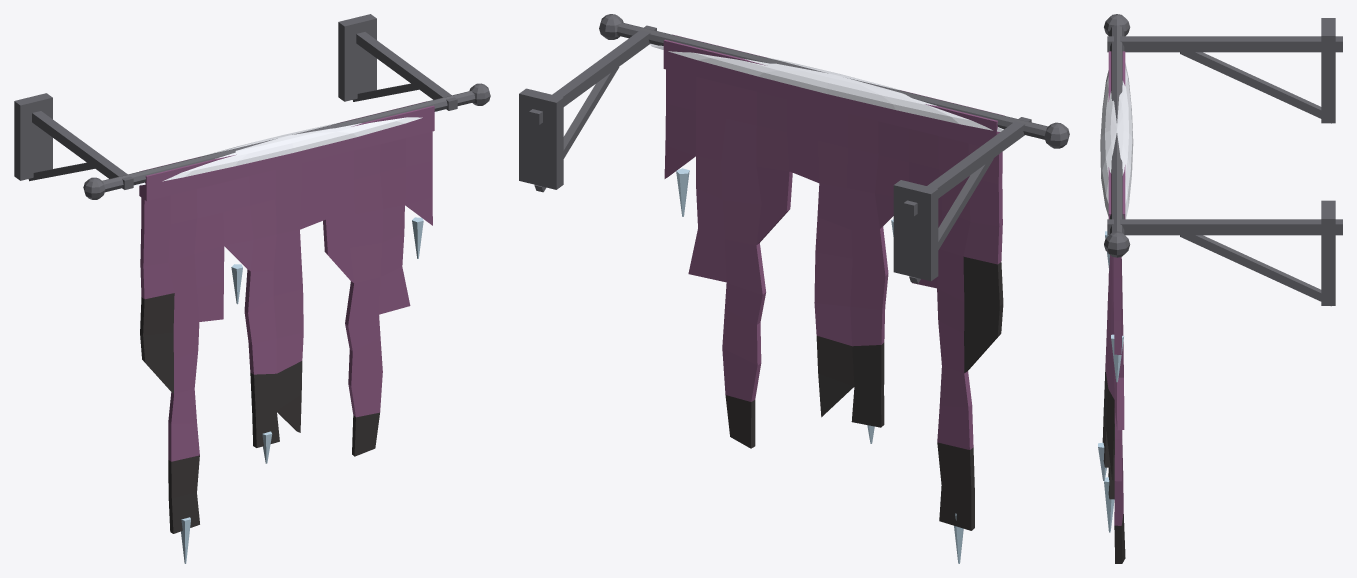
Rendered from PR_Estandarte_Queimado.fbx.
The picture shows the model from 3 angles, left to right: view 1: azimuth 30°, elevation 25°; view 2: azimuth 150°, elevation 25°; view 3: azimuth 270°, elevation 25°; orthographic projection. The views are drawn at different scales.
Visible parts, largest first — view 1: PR_Estandarte_Queimado; view 2: PR_Estandarte_Queimado; view 3: PR_Estandarte_Queimado.
Part boxes in pixels (left/top/right/bottom): PR_Estandarte_Queimado: left=14, top=14, right=490, bottom=563; PR_Estandarte_Queimado: left=519, top=14, right=1069, bottom=563; PR_Estandarte_Queimado: left=1098, top=14, right=1342, bottom=563.
Bounding box in the file's own units: 2.25 × 2.17 × 1.02.
